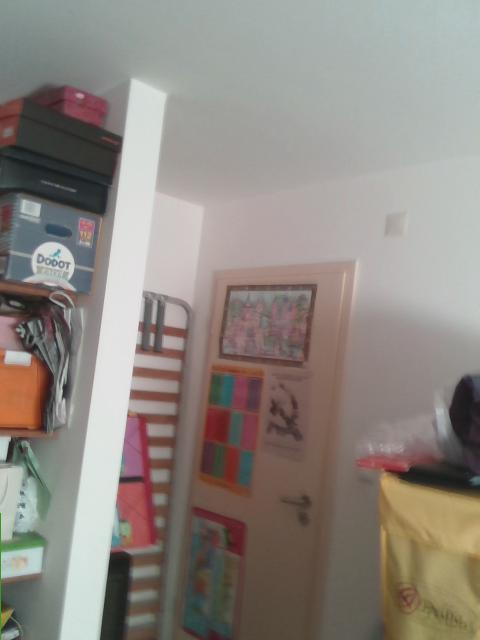closed_door: (171, 261, 357, 639)
